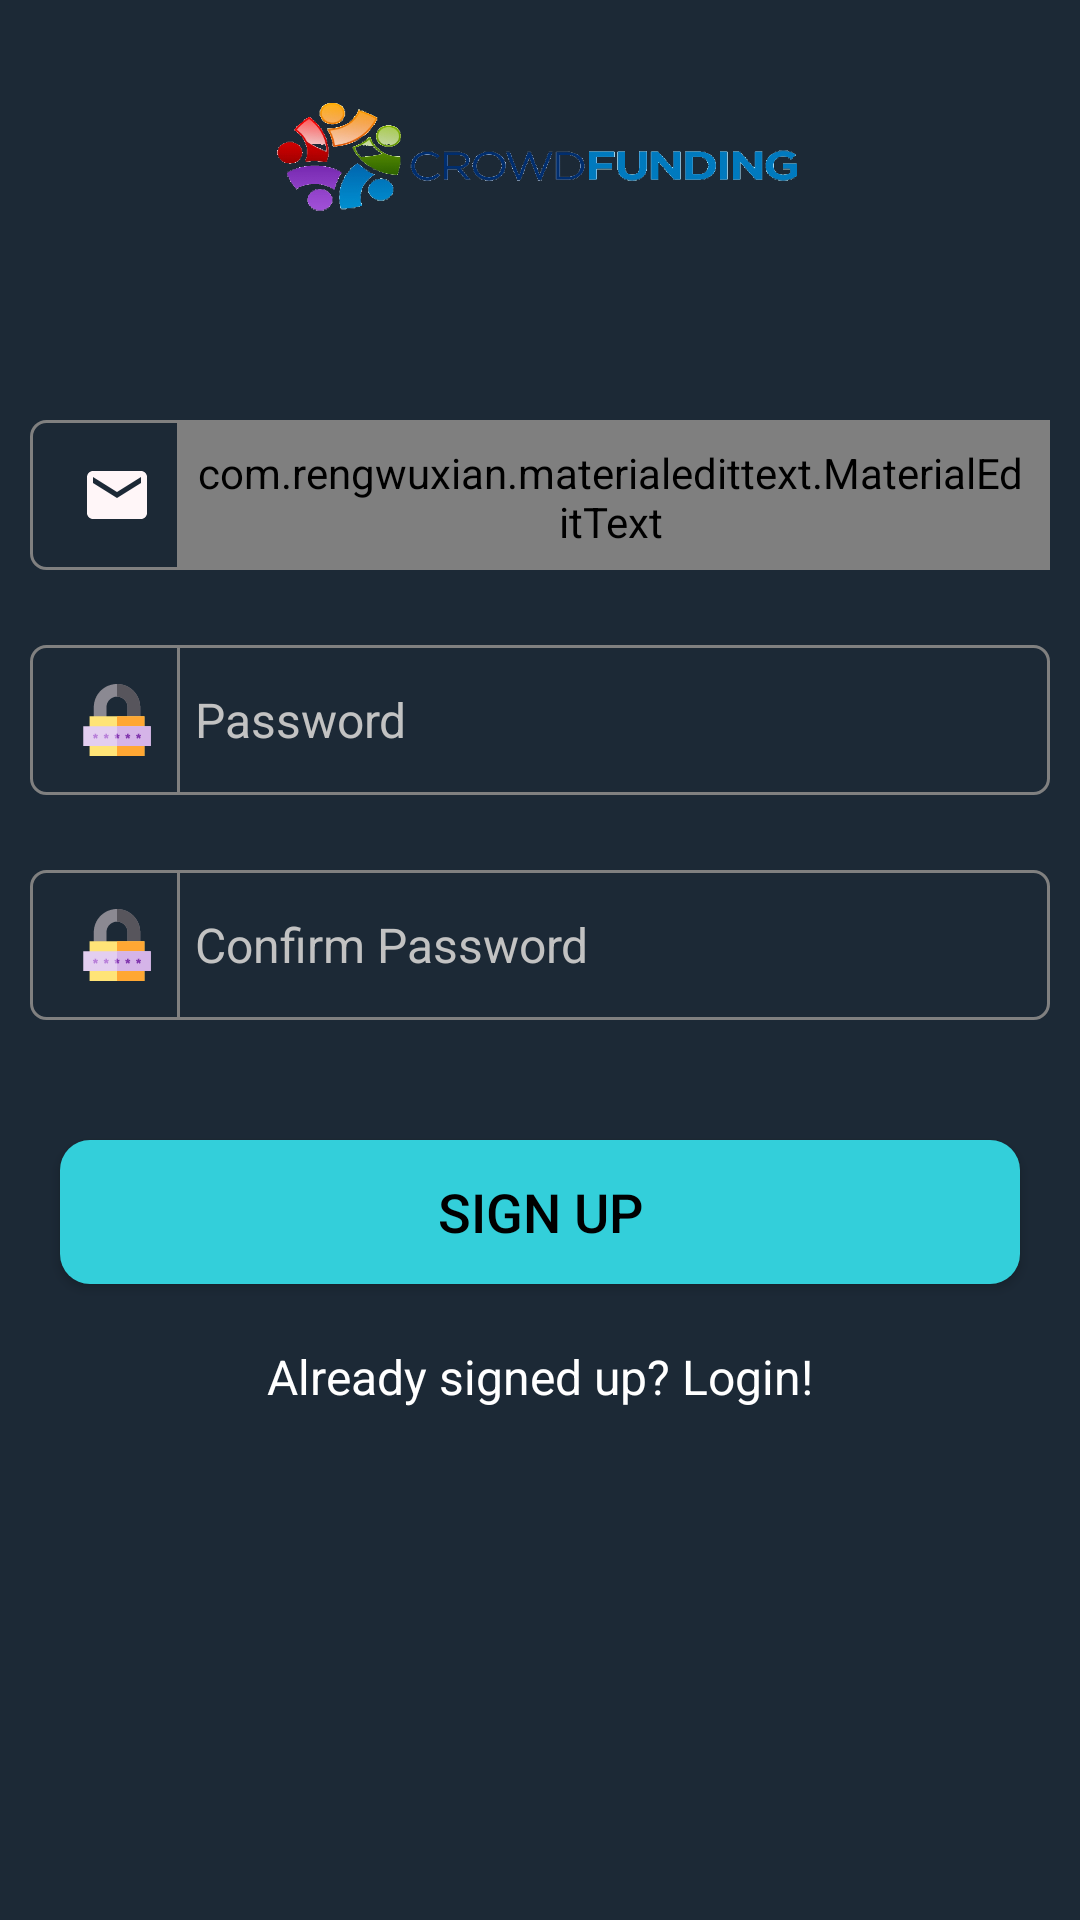

Icon click points for this 1080*1920 phone screenshot, format (x,y):
lock: (117,720), (117,945)
